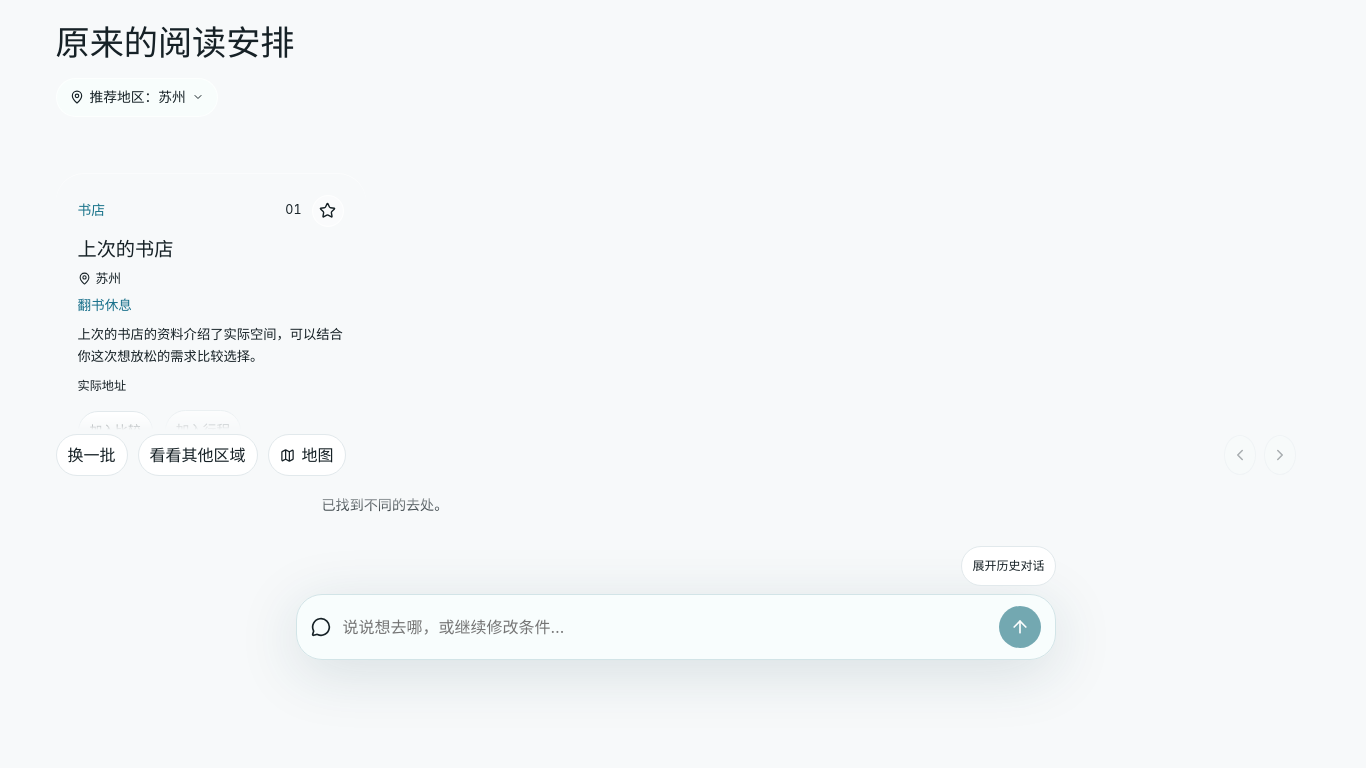
Scenario: open-ended discovery › keeps usable cards while the next query is empty, then handles failed
(page scrolled)
Type "杭州散步" into the text box named "继续补充条件" at (664, 627), box [342, 605, 986, 649]
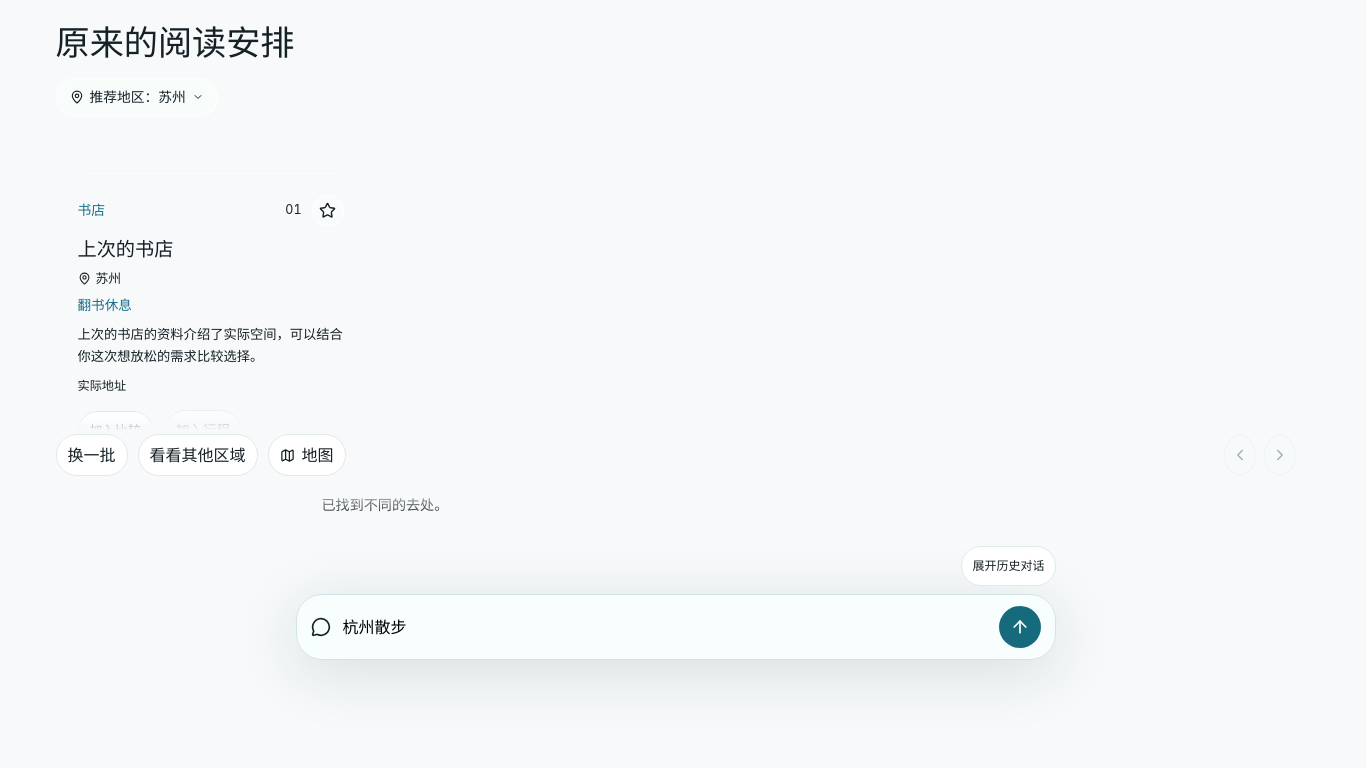
Press Enter
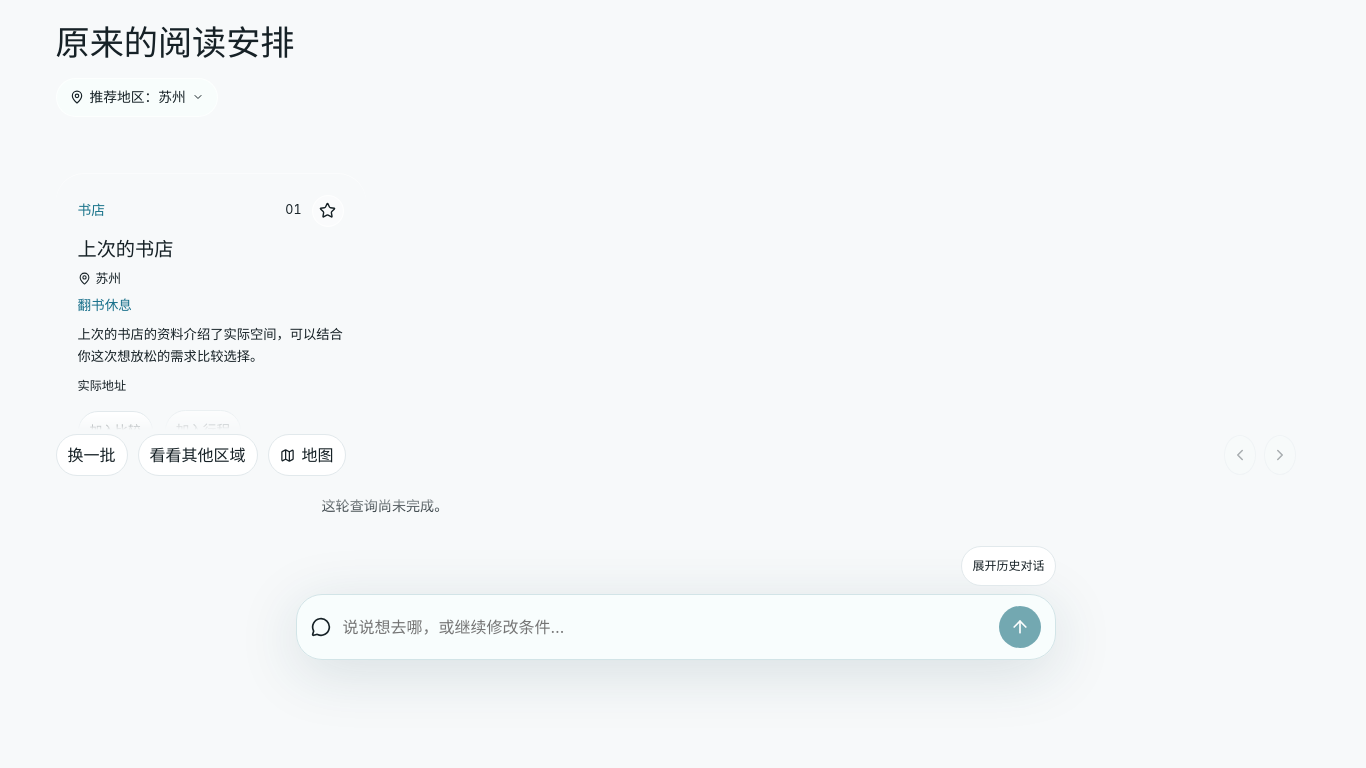
Expected: the heading "原来的阅读安排" is shown, [56, 22, 294, 63]
Now the text "这轮查询尚未完成。" is shown, box [322, 497, 448, 514]
